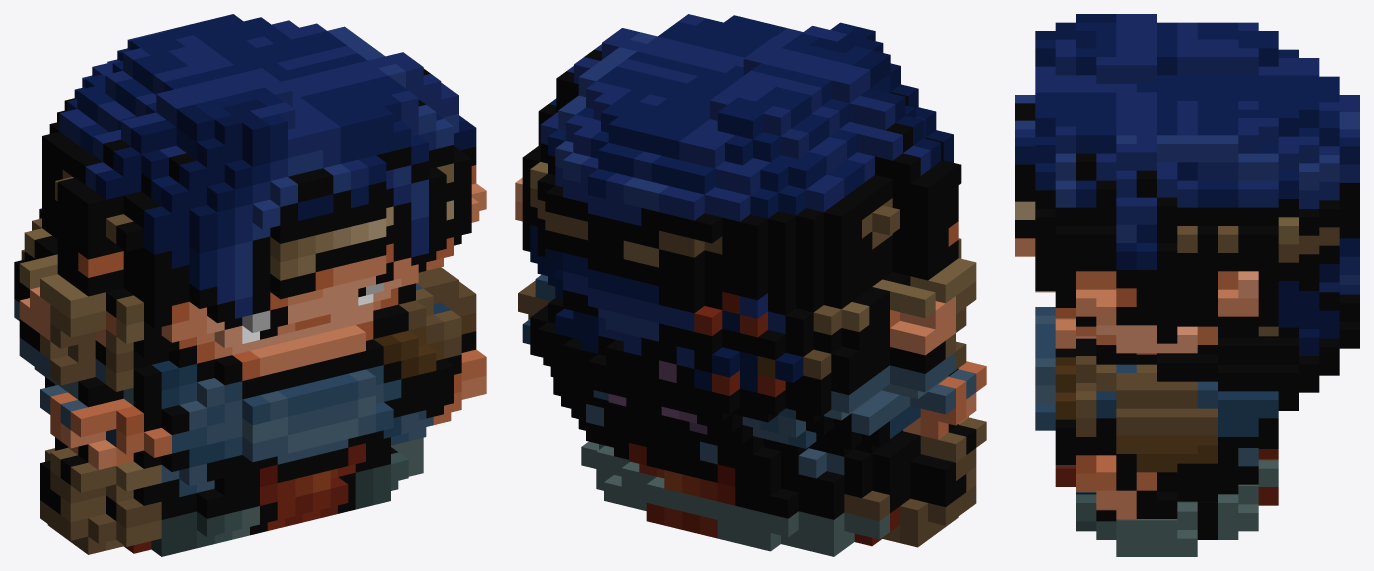
File: Icon_717_02.obj
3 renders of one model, left to right at view 1: azimuth 30°, elevation 25°; view 2: azimuth 150°, elevation 25°; view 3: azimuth 270°, elevation 25°, orthographic.
Bounding box in the file's own units: 2.3 × 2.3 × 1.7.
